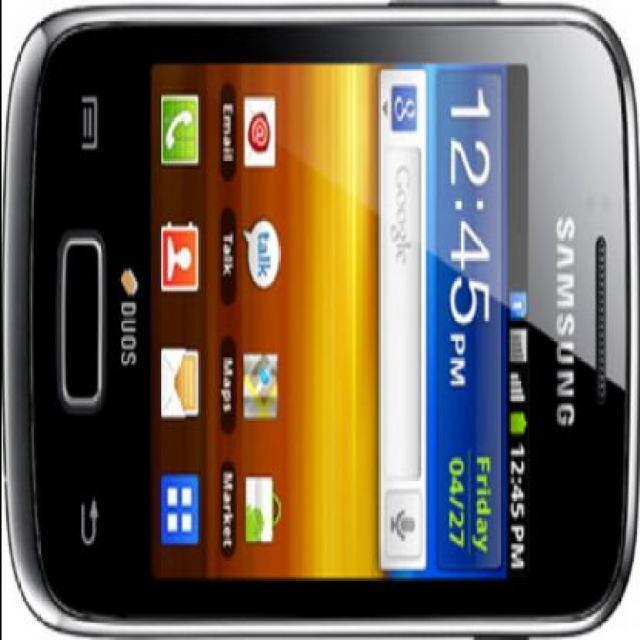phone: (40, 0, 640, 614)
